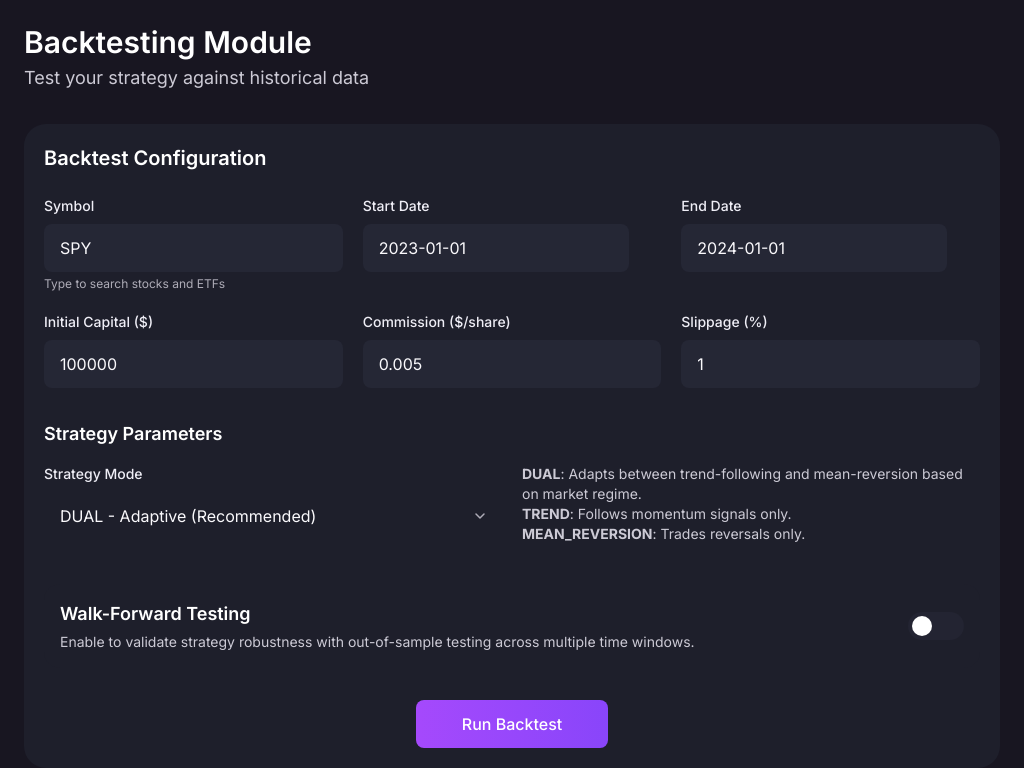
Test: Backtest Page › shows loading state when running backtest
The width and height of the screenshot is (1024, 768).
Click the button "Run Backtest": (512, 724) [416, 700, 608, 748]
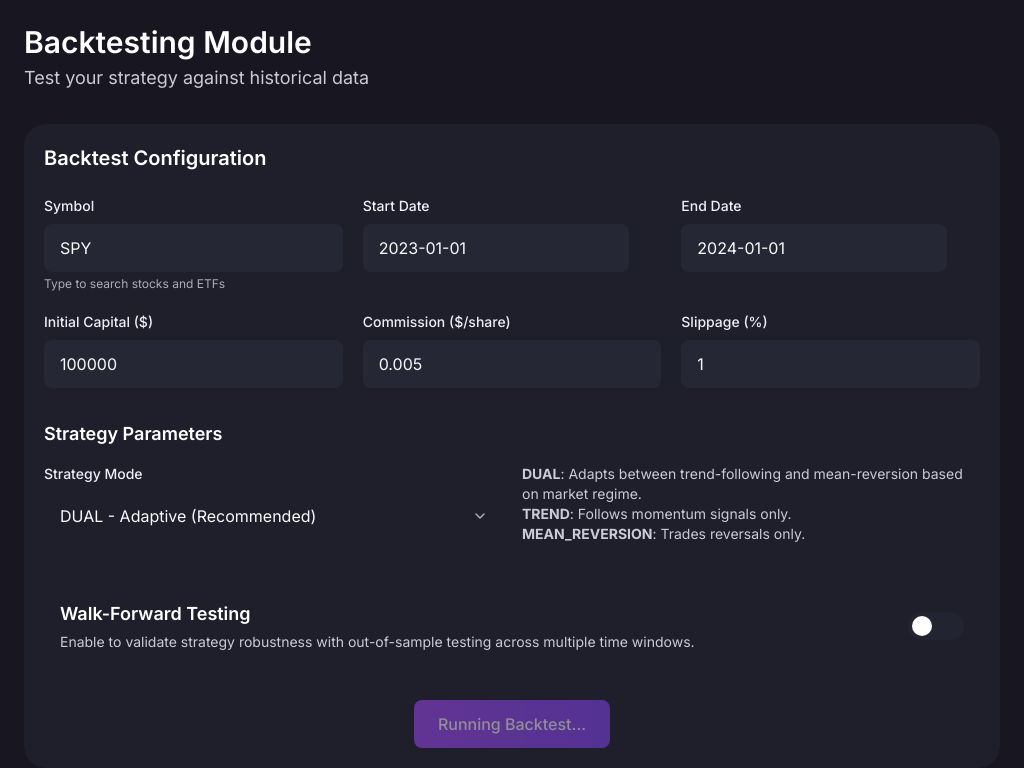
expect the button "Run Backtest" is disabled: met, box [414, 700, 610, 748]
